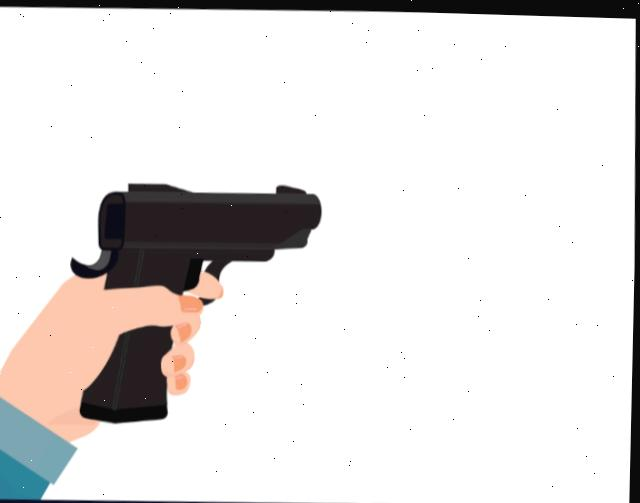pistol: (75, 169, 328, 425)
